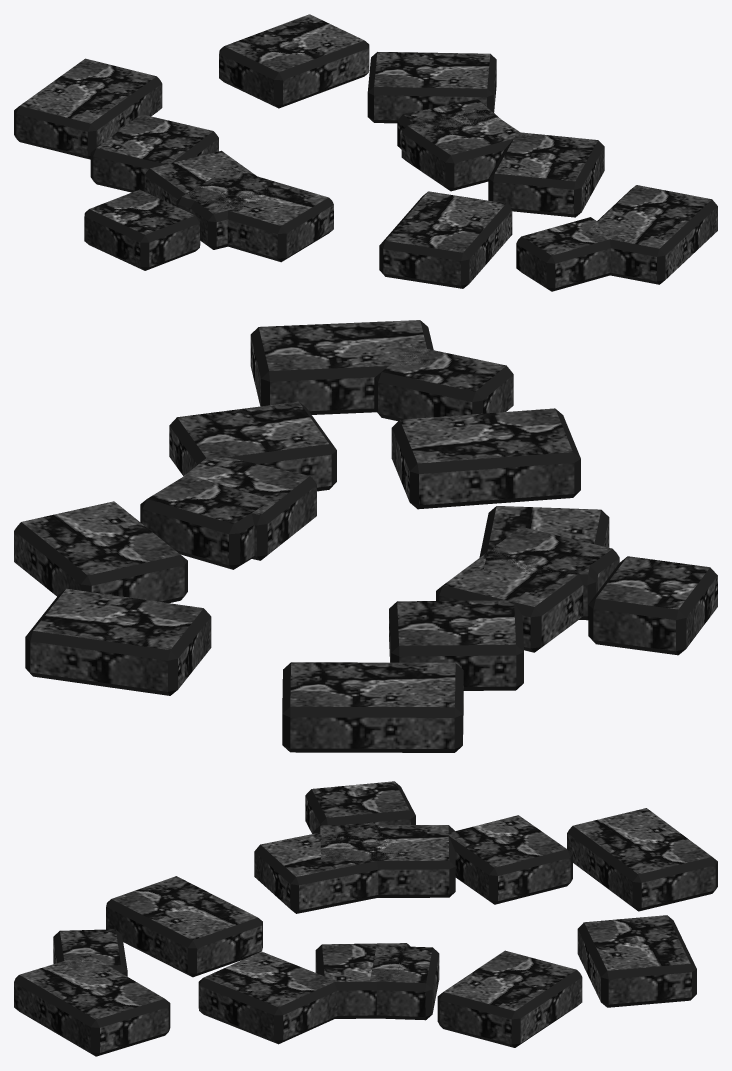
The model's file is rubble.glb.
The picture shows the model from 3 angles, top to bottom: view 1: azimuth 30°, elevation 25°; view 2: azimuth 150°, elevation 25°; view 3: azimuth 270°, elevation 25°; orthographic projection. The views are drawn at different scales.
Parts seen in each view (by area): view 1: Walkable fragment.008, Walkable fragment.009, Walkable fragment.001, Walkable fragment, Walkable fragment.012, Walkable fragment.003, Walkable fragment.010, Walkable fragment.006, Walkable fragment.011, Walkable fragment.002, Walkable fragment.005, Walkable fragment.007 (+1 smaller); view 2: Walkable fragment.009, Walkable fragment.001, Walkable fragment.008, Walkable fragment, Walkable fragment.010, Walkable fragment.007, Walkable fragment.006, Walkable fragment.002, Walkable fragment.003, Walkable fragment.005, Walkable fragment.004, Walkable fragment.011 (+1 smaller); view 3: Walkable fragment, Walkable fragment.009, Walkable fragment.001, Walkable fragment.010, Walkable fragment.008, Walkable fragment.003, Walkable fragment.002, Walkable fragment.007, Walkable fragment.012, Walkable fragment.004, Walkable fragment.006, Walkable fragment.011 (+1 smaller).
Boxes of the visible parts, x1,y1,x2,y2 form: Walkable fragment.008: (219,14,369,108); Walkable fragment.009: (14,58,162,159); Walkable fragment.001: (379,191,512,288); Walkable fragment: (584,185,717,284); Walkable fragment.012: (176,168,333,262); Walkable fragment.003: (488,132,604,217); Walkable fragment.010: (367,52,496,123); Walkable fragment.006: (84,189,200,270); Walkable fragment.011: (401,106,523,191); Walkable fragment.002: (90,114,218,192); Walkable fragment.005: (516,217,617,291); Walkable fragment.007: (144,150,282,249); Walkable fragment.009: (282,662,463,752); Walkable fragment.001: (391,408,580,509); Walkable fragment.008: (25,588,211,695); Walkable fragment: (250,320,433,414); Walkable fragment.010: (14,501,187,603); Walkable fragment.007: (436,527,619,652); Walkable fragment.006: (588,556,717,655); Walkable fragment.002: (389,600,523,690); Walkable fragment.003: (169,401,336,491); Walkable fragment.005: (374,346,513,420); Walkable fragment.004: (140,474,272,569); Walkable fragment.011: (183,457,316,560); Walkable fragment: (14,954,170,1056); Walkable fragment.009: (567,808,717,911); Walkable fragment.001: (106,876,262,977); Walkable fragment.010: (437,950,582,1047); Walkable fragment.008: (577,915,696,1007); Walkable fragment.003: (198,951,337,1044); Walkable fragment.002: (446,815,572,904); Walkable fragment.007: (313,825,455,897); Walkable fragment.012: (254,822,408,913); Walkable fragment.004: (370,945,439,1020); Walkable fragment.006: (305,781,415,833); Walkable fragment.011: (315,943,410,1018).
Size of the model in its own units: 0.7052 by 0.05 by 0.862.
2 materials, 1 textured.
